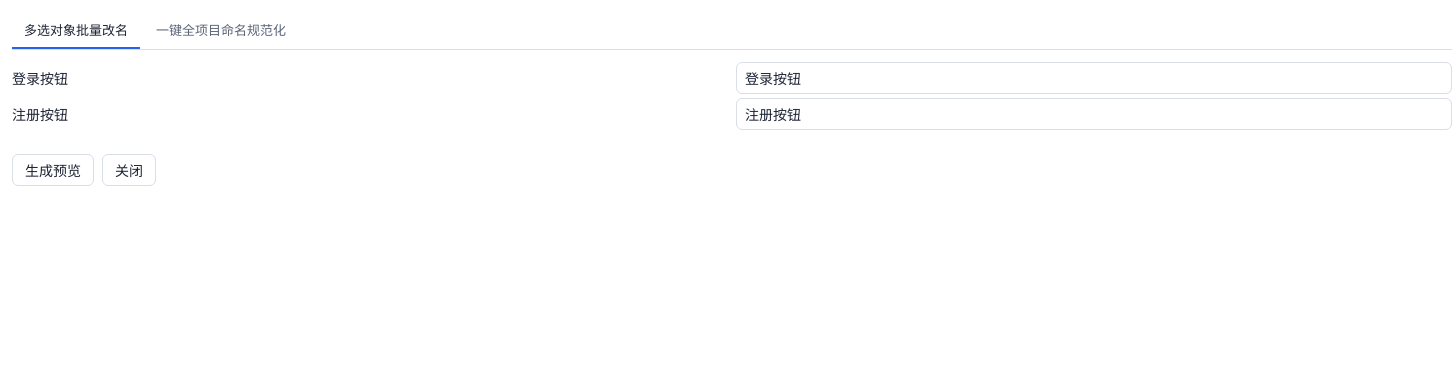
BatchRenameDialog › 批量改名：生成预览并展示各对象 diff 摘要
Replace the text in the field named "登录按钮 的新名称" with "登录提交" at (1094, 78), box [745,63,1443,93]
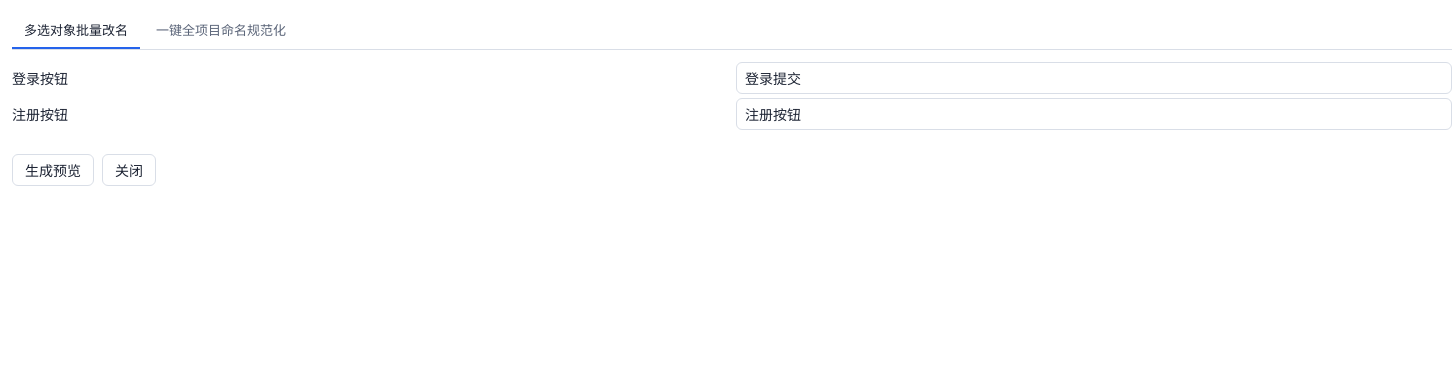
Replace the text in the field named "注册按钮 的新名称" with "注册提交" at (1094, 114), box [745,99,1443,129]
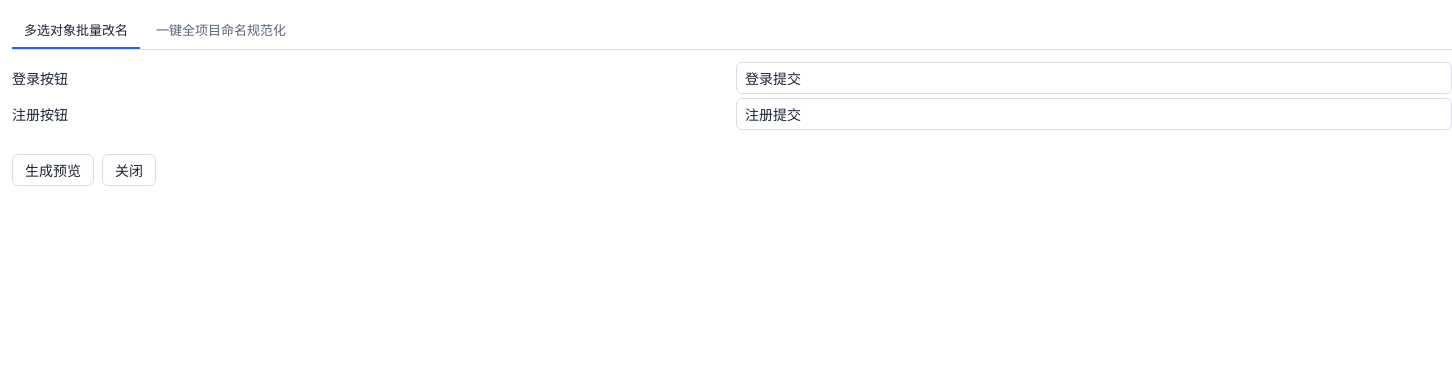
Click the button with test id "batch-plan".
click(53, 170)  # box [12,154,94,186]
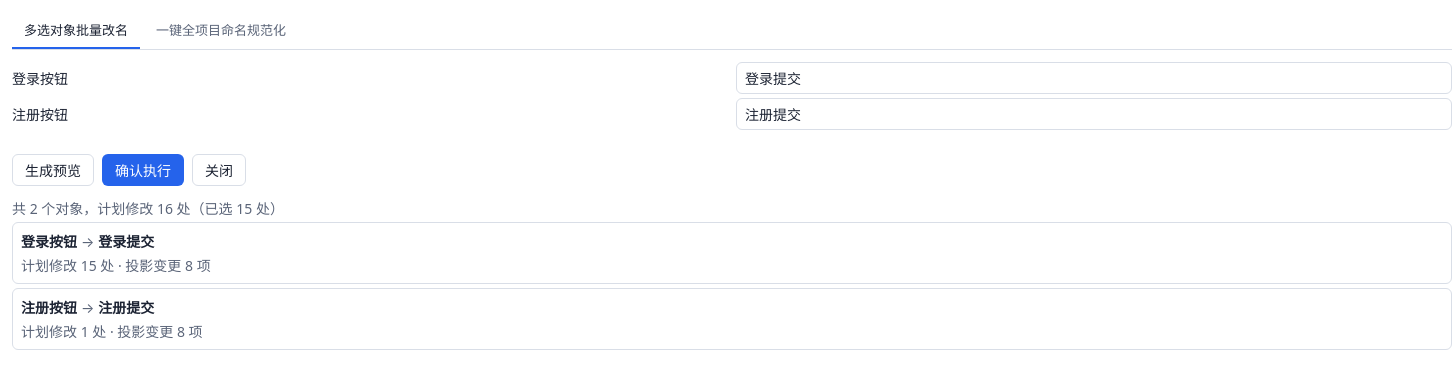
Now the number of elements with test id "batch-step" is 2, box [12,222,1451,284]; [12,288,1451,350]
Now the text "登录提交" is shown, box [98,231,154,251]
Now the text "注册提交" is shown, box [98,297,154,317]
